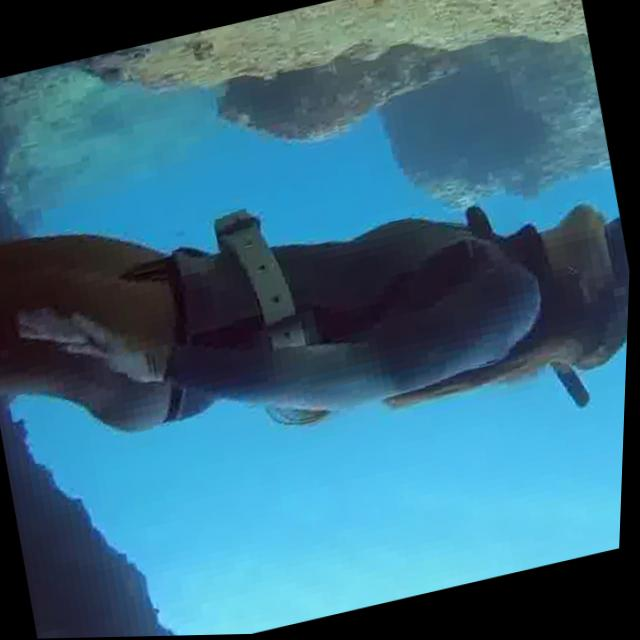human: (0, 97, 637, 549)
